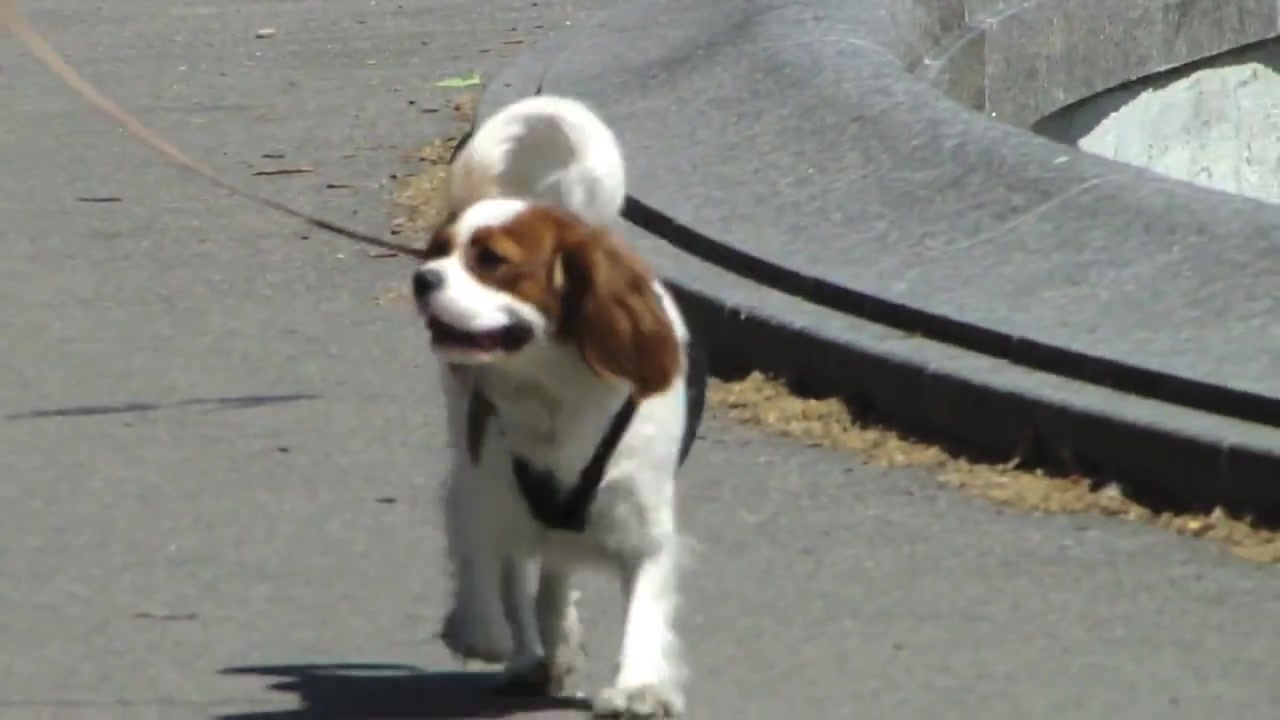dog: (411, 95, 698, 720)
